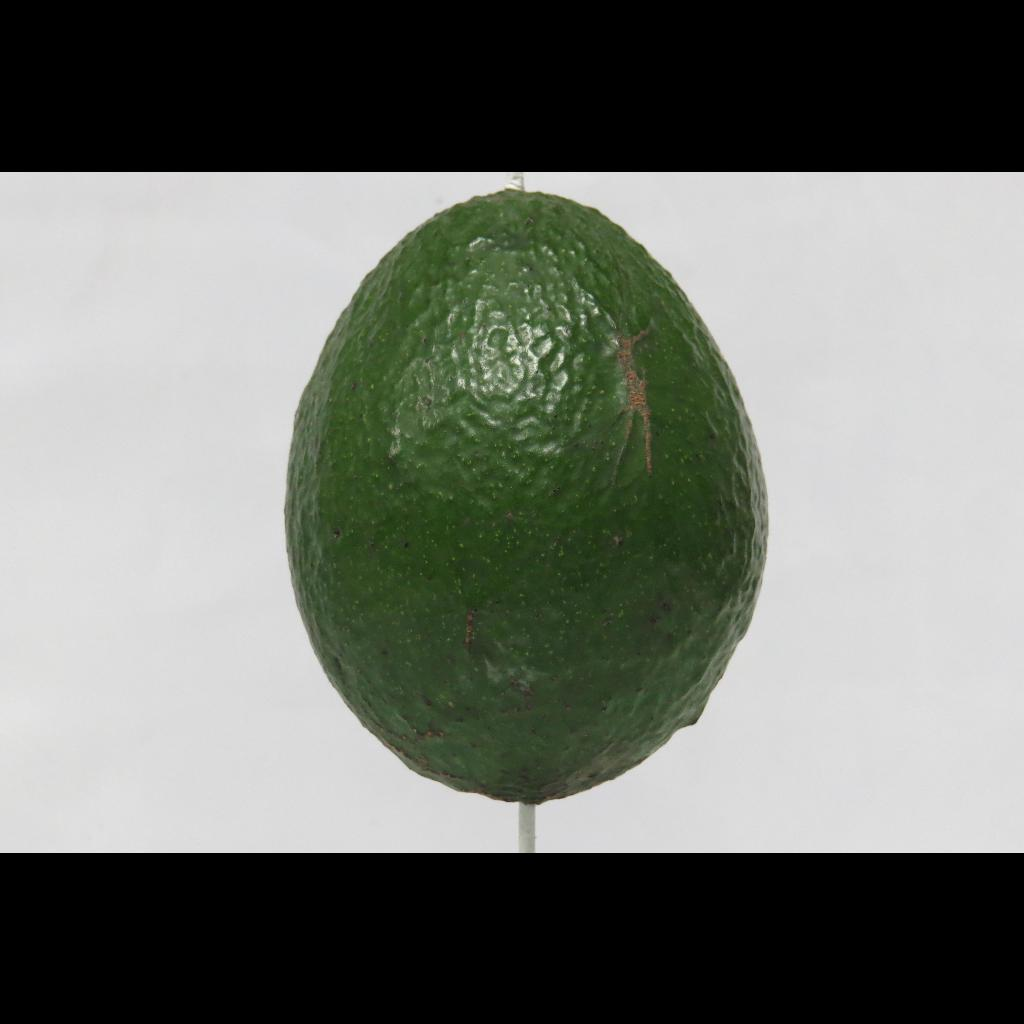Healthy: (241, 182, 791, 818)
